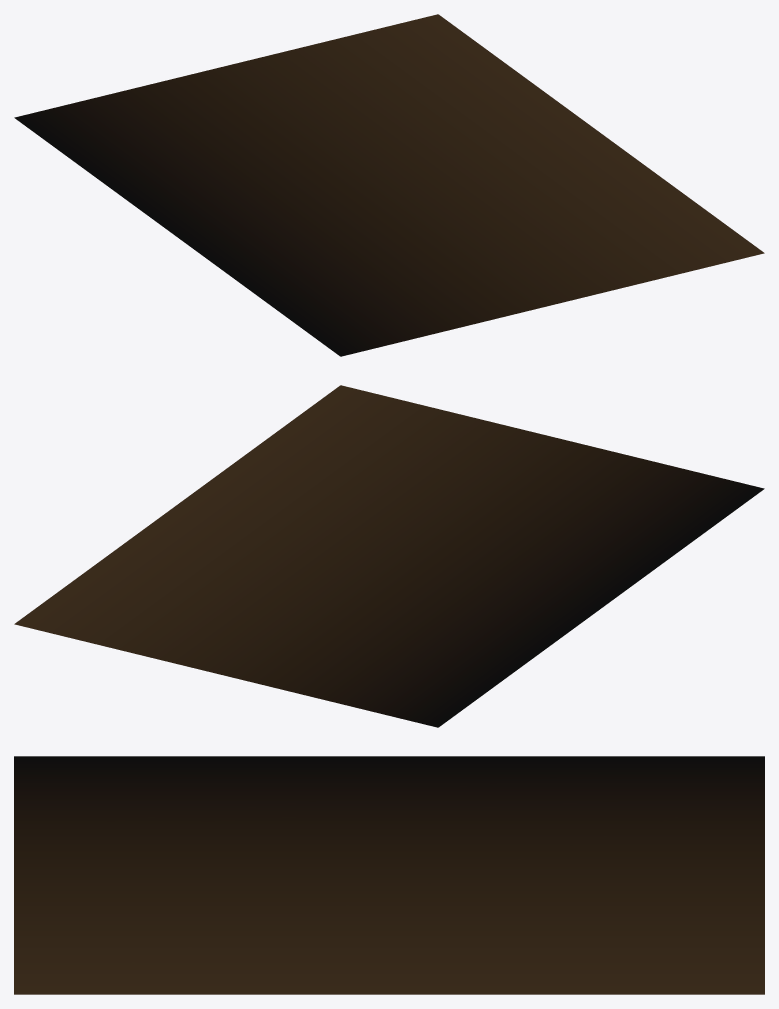
3 views of the same model, one above another, from view 1: azimuth 30°, elevation 25°; view 2: azimuth 150°, elevation 25°; view 3: azimuth 270°, elevation 25° (orthographic). The views are drawn at different scales.
Size of the model in its own units: 0.75 by 0 by 1.
Materials: 1 (1 with a texture image).
